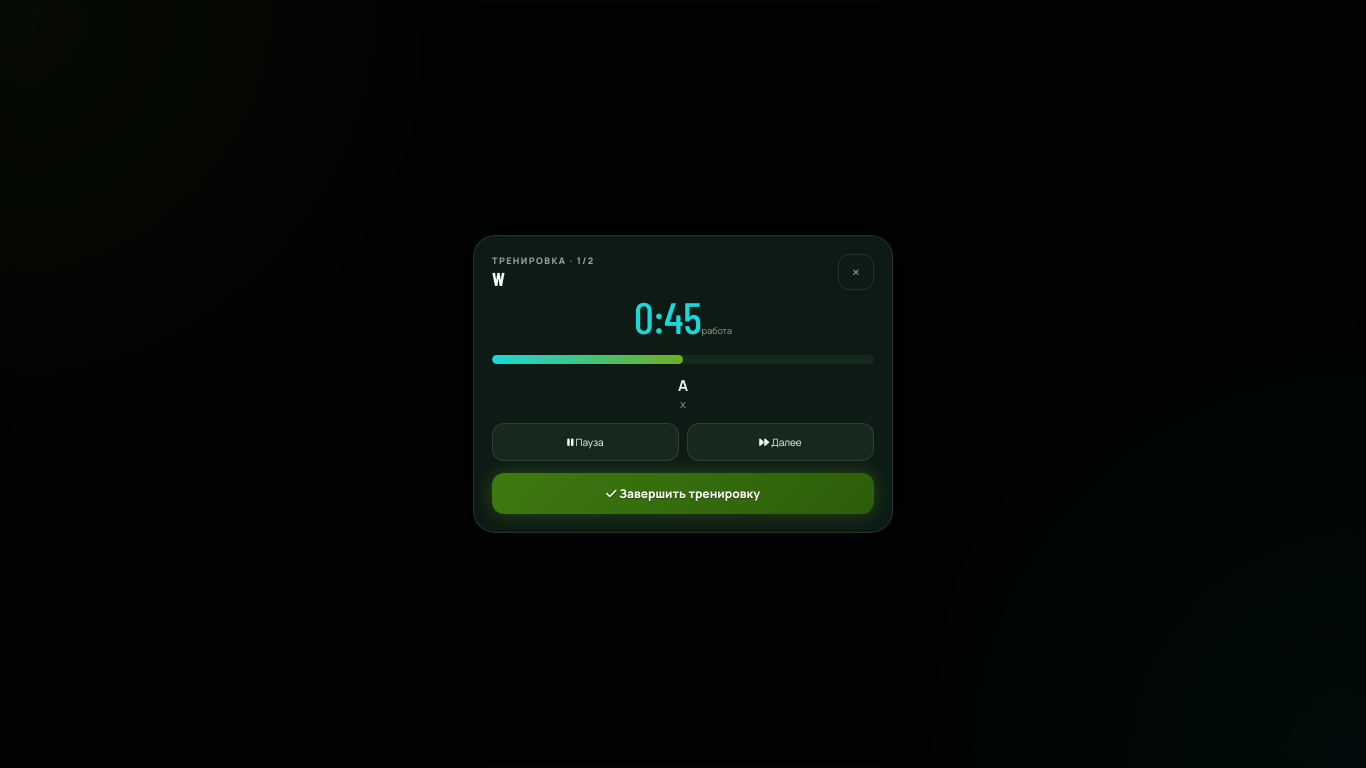
Test: WorkoutSession › advances from work to rest via the Next button
Click the button "Далее": click(780, 442) 687,423 -> 874,461
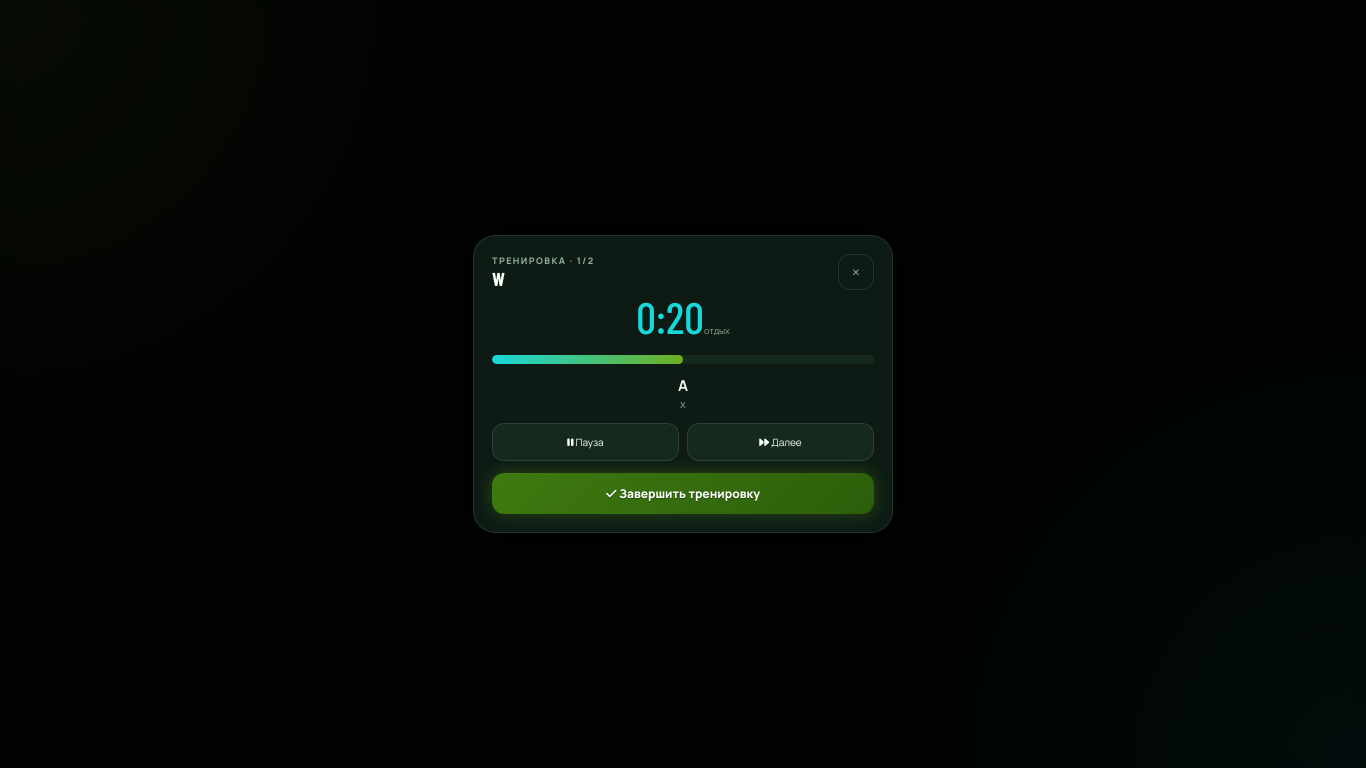
Expected: the text "отдых" is shown, 704,324 -> 730,337
